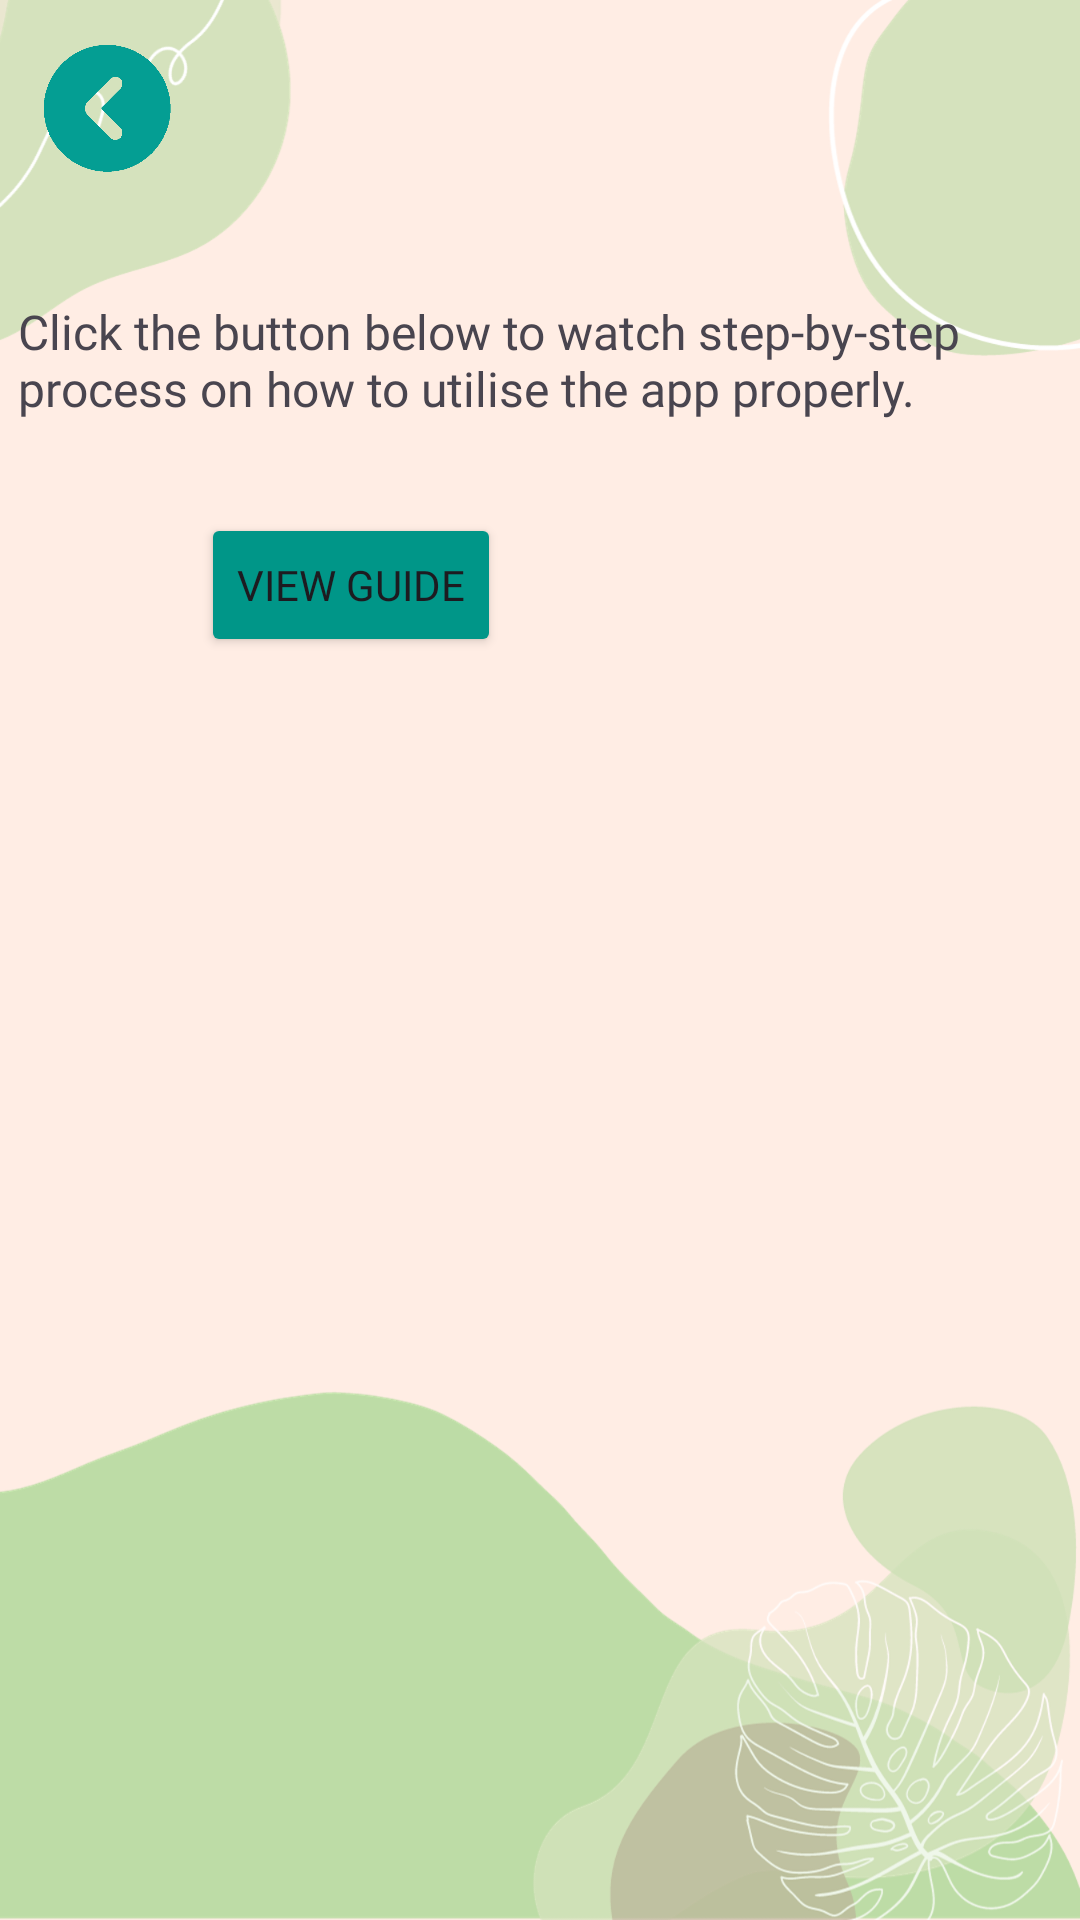

Point at icon controls on the screen. Image size 1080×1920, points as [x,y].
backicon: [107,108]
